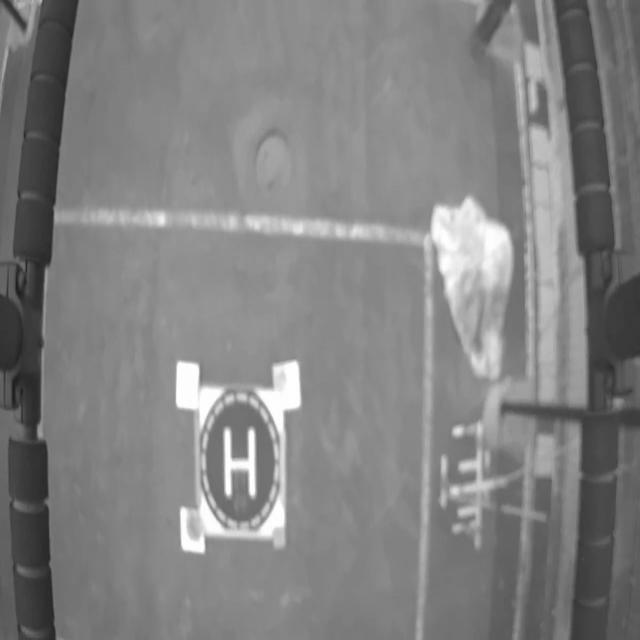Helipad: (224, 427, 256, 499)
